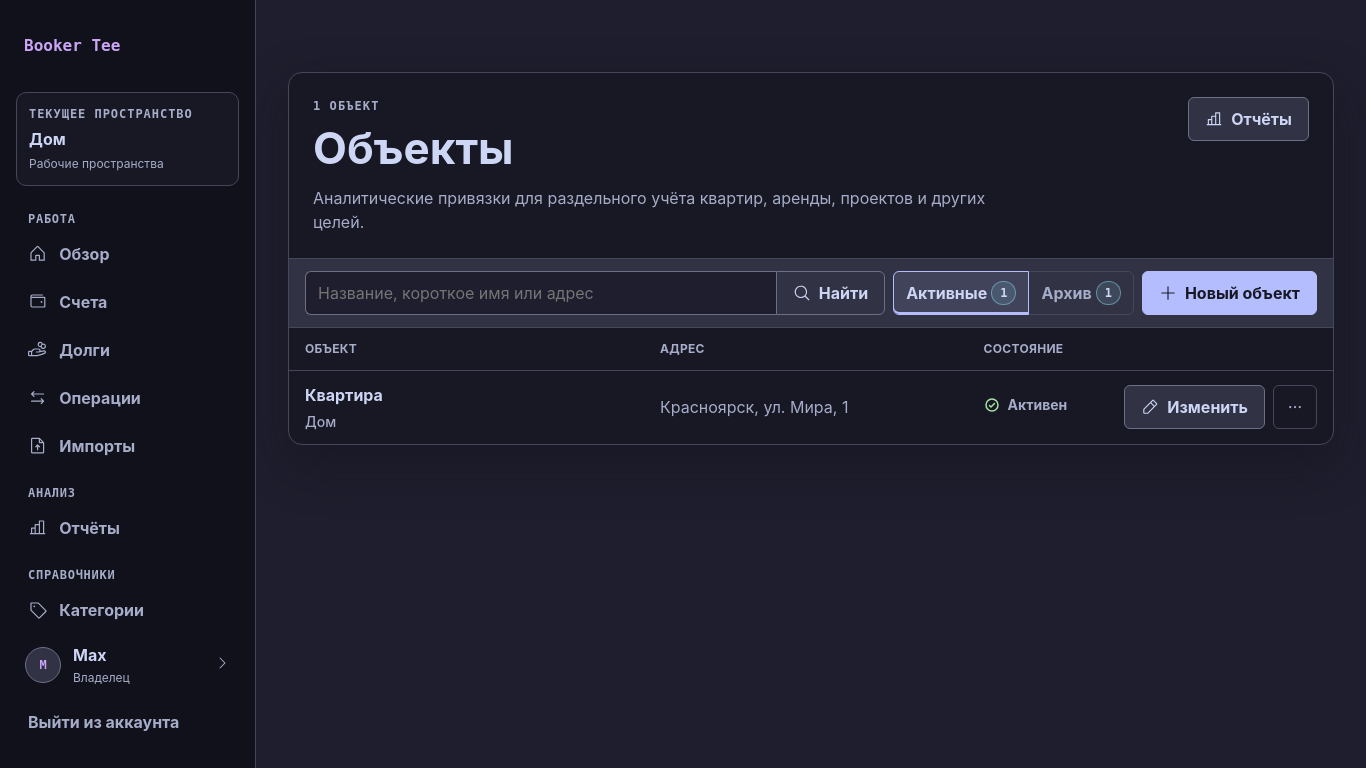
PropertiesPage › focuses and explains an invalid required name
The image size is (1366, 768).
Click the button "Новый объект".
click(1229, 293)  # box top-left (1142, 271), bottom-right (1317, 315)
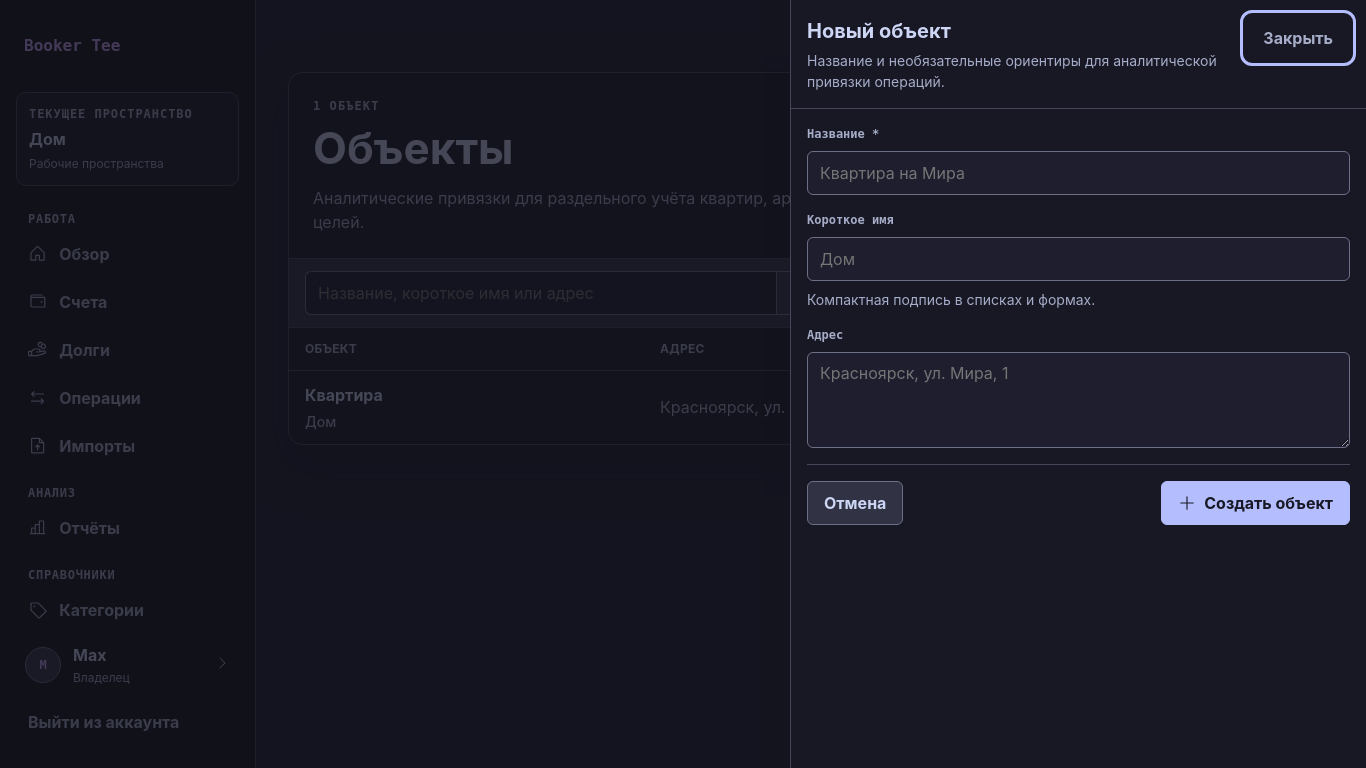
Click the button "Создать объект".
click(1256, 503)  # box top-left (1161, 481), bottom-right (1350, 525)
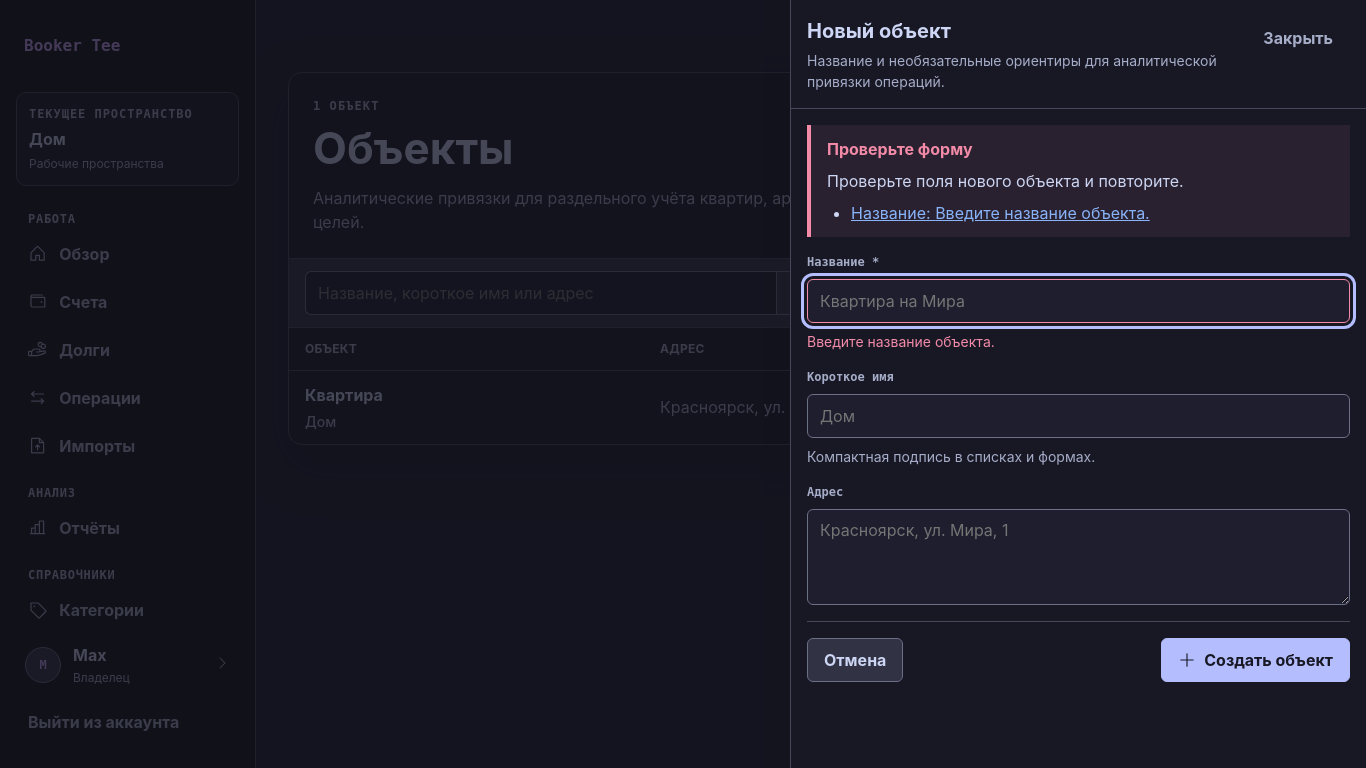
Now the text "Введите название объекта." is shown, box top-left (807, 333), bottom-right (995, 350)
